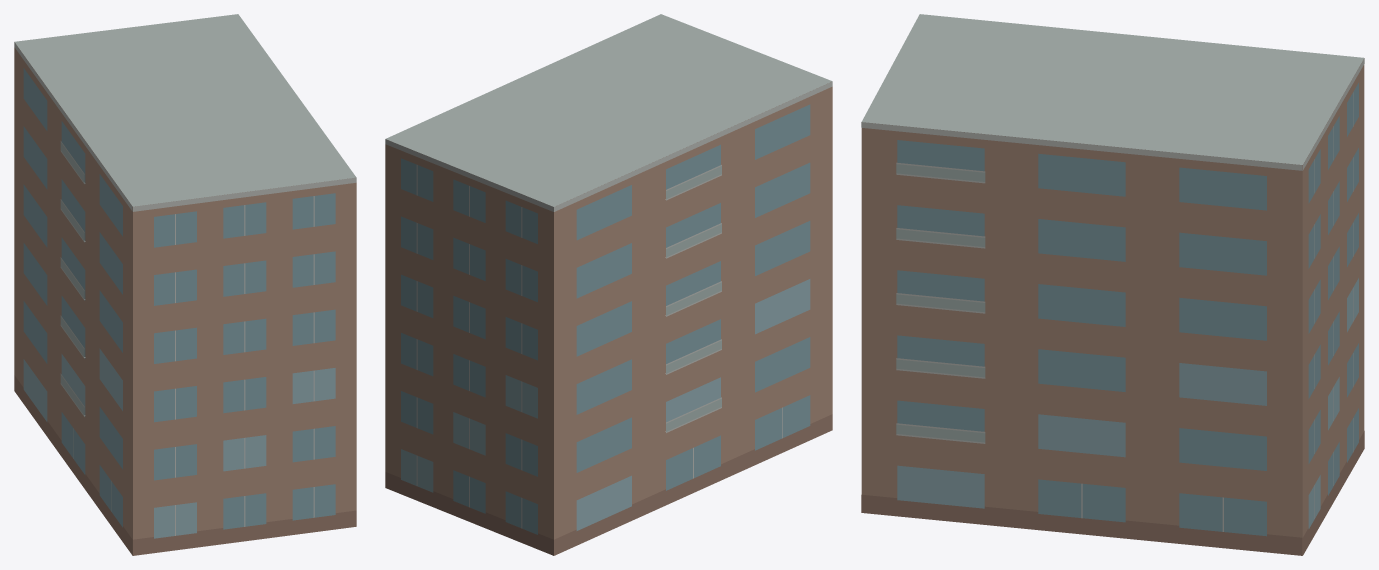
The model's file is survey-upis-32538068.glb.
The picture shows the model from 3 angles, left to right: view 1: azimuth 30°, elevation 25°; view 2: azimuth 150°, elevation 25°; view 3: azimuth 270°, elevation 25°; orthographic projection. The views are drawn at different scales.
Visible parts, largest first — view 1: survey-upis-32538068.tmp; view 2: survey-upis-32538068.tmp; view 3: survey-upis-32538068.tmp.
Boxes of the visible parts, x1,y1,x2,y2 form: survey-upis-32538068.tmp: (14,14,356,555); survey-upis-32538068.tmp: (385,14,832,555); survey-upis-32538068.tmp: (861,14,1364,555).
Size of the model in its own units: 13.69 by 16.5 by 19.26.
